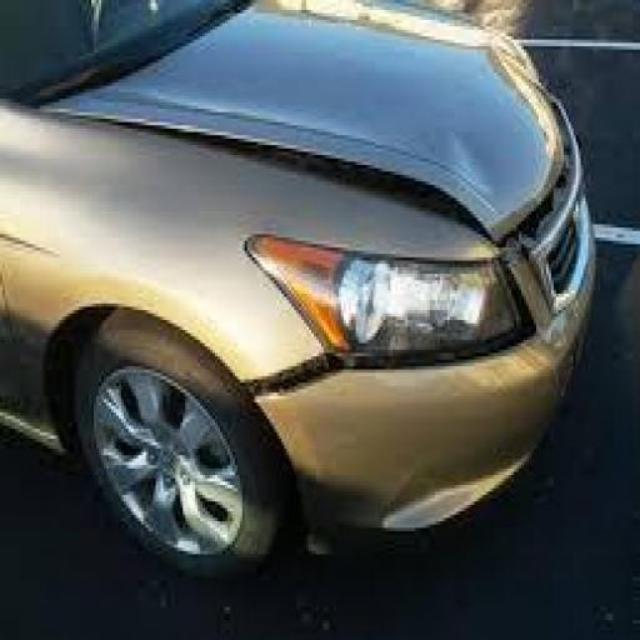dislocated part: (57, 111, 534, 236), (241, 262, 541, 411), (497, 86, 581, 263)
